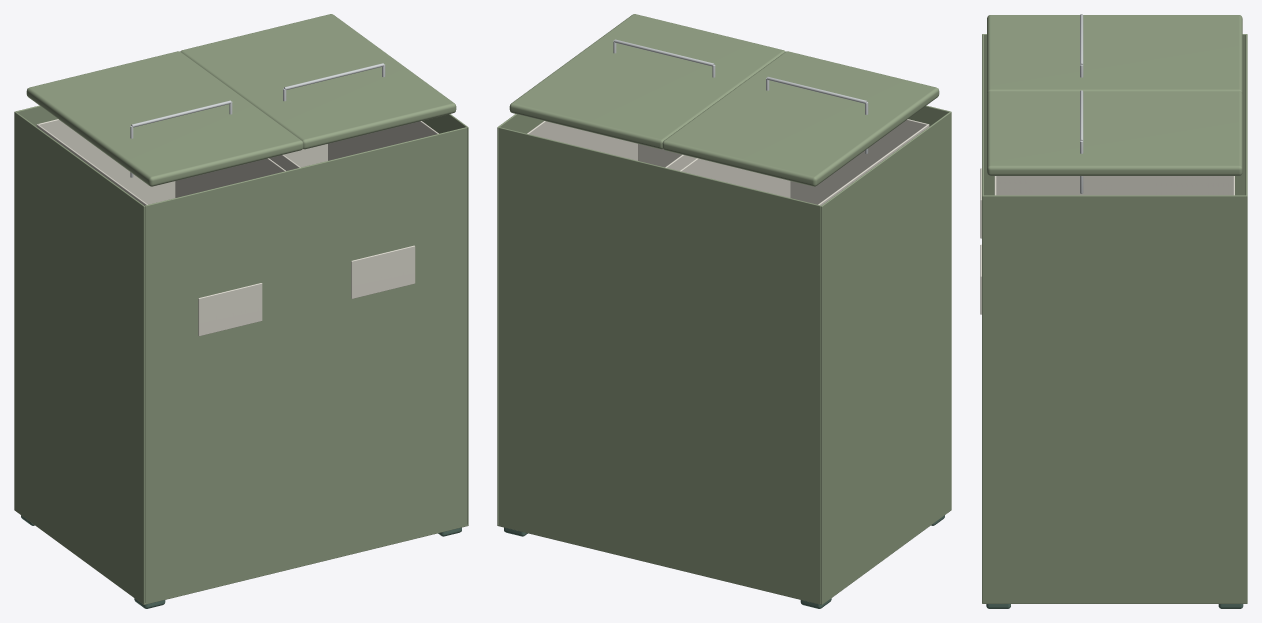
File: recycling-station.glb
3 renders of one model, left to right at view 1: azimuth 30°, elevation 25°; view 2: azimuth 150°, elevation 25°; view 3: azimuth 270°, elevation 25°, orthographic. The views are drawn at different scales.
Visible parts, largest first — view 1: Station shell front, Station shell left, Independent lid, Independent lid.001, Lift-out bucket back, Local stream label, Local stream label.001, Lift-out bucket right, Lift-out bucket right.001, Station shell right, Lift-out bucket back.001; view 2: Station shell back, Station shell left, Independent lid, Independent lid.001, Lift-out bucket front, Lift-out bucket right, Lift-out bucket right.001, Station shell right, Lift-out bucket front.001, Station shell floor; view 3: Station shell right, Independent lid.001, Independent lid, Lift-out bucket left.001, Station shell left, Station shell back.
Part boxes in pixels (x1,y1,x2,y2): Station shell front: (145, 127, 466, 604); Station shell left: (14, 111, 145, 604); Independent lid: (26, 51, 303, 186); Independent lid.001: (180, 14, 456, 149); Lift-out bucket back: (38, 119, 175, 204); Local stream label: (198, 283, 262, 336); Local stream label.001: (351, 245, 415, 298); Lift-out bucket right: (175, 158, 285, 197); Lift-out bucket right.001: (328, 121, 438, 160); Station shell right: (422, 114, 468, 525); Lift-out bucket back.001: (284, 144, 327, 167); Station shell back: (499, 127, 820, 604); Station shell left: (820, 111, 951, 604); Independent lid: (662, 51, 939, 186); Independent lid.001: (509, 14, 785, 149); Lift-out bucket front: (790, 119, 927, 204); Lift-out bucket right: (680, 158, 790, 197); Lift-out bucket right.001: (527, 121, 637, 160); Station shell right: (497, 114, 543, 525); Lift-out bucket front.001: (638, 144, 681, 167); Station shell floor: (497, 510, 950, 604); Station shell right: (982, 195, 1247, 603); Independent lid.001: (987, 91, 1242, 175); Independent lid: (987, 15, 1242, 93); Lift-out bucket left.001: (996, 176, 1233, 195); Station shell left: (982, 34, 1247, 195); Station shell back: (1245, 34, 1247, 195).
Size of the model in its own units: 0.46 by 0.6 by 0.32.
